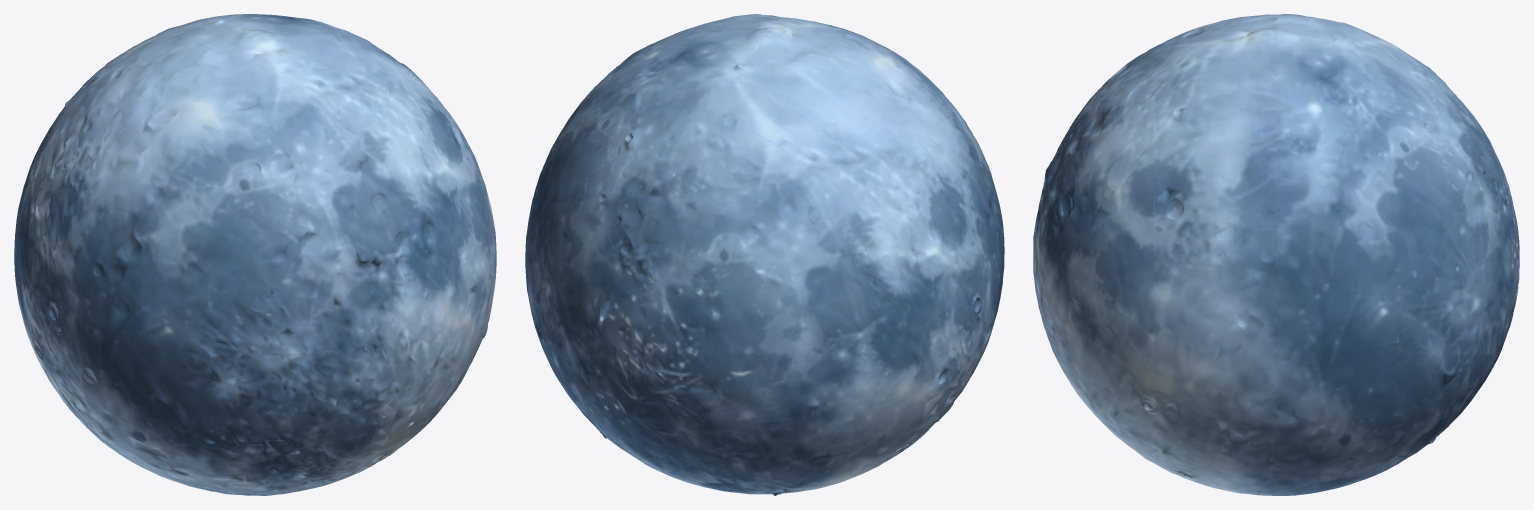
File: moon.glb
3 views of the same model, side by side, from view 1: azimuth 30°, elevation 25°; view 2: azimuth 150°, elevation 25°; view 3: azimuth 270°, elevation 25° (orthographic).
Visible parts, largest first — view 1: geometry_0; view 2: geometry_0; view 3: geometry_0.
Boxes of the visible parts, box(x1,y1,x2,y2) form: geometry_0: box(14, 14, 496, 495); geometry_0: box(525, 14, 1004, 495); geometry_0: box(1033, 14, 1519, 495).
Bounding box in the file's own units: 0.9862 × 0.9979 × 0.9999.
1 material, 1 textured.
